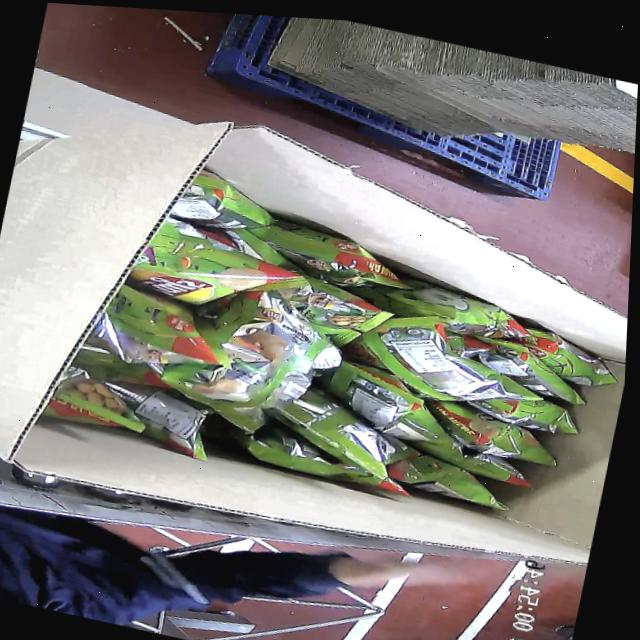YOGURT_HERB: (45, 148, 634, 540)
